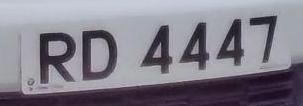4: (136, 17, 179, 80), (176, 14, 216, 76), (213, 12, 251, 74)
7: (249, 11, 287, 70)
D: (76, 20, 123, 86)
R: (31, 27, 80, 89)
